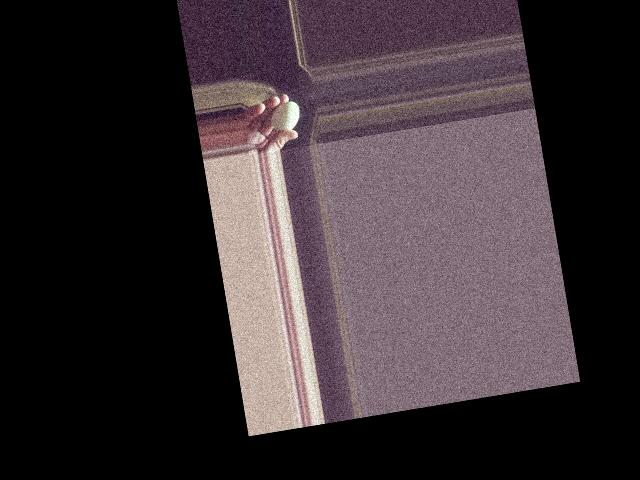egg: (268, 101, 302, 133)
